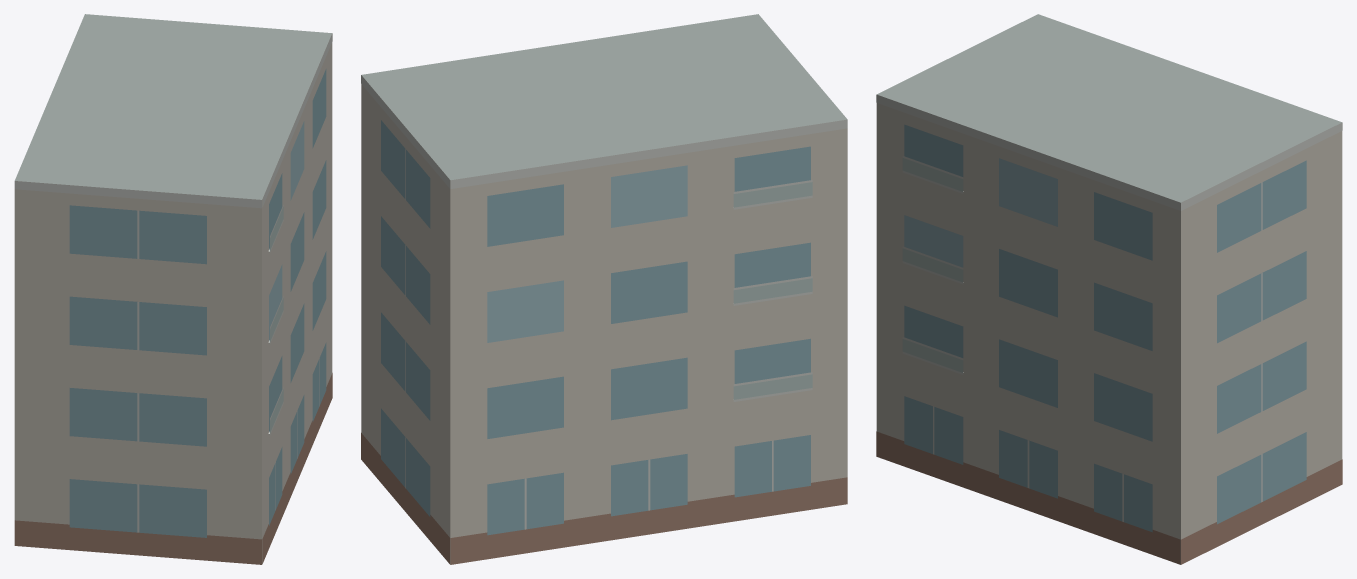
File: survey-upis-32710944.glb
3 renders of one model, left to right at view 1: azimuth 30°, elevation 25°; view 2: azimuth 150°, elevation 25°; view 3: azimuth 270°, elevation 25°, orthographic. The views are drawn at different scales.
Visible parts, largest first — view 1: survey-upis-32710944.tmp; view 2: survey-upis-32710944.tmp; view 3: survey-upis-32710944.tmp.
Part boxes in pixels (<box>): survey-upis-32710944.tmp: <box>14,14,332,564</box>; survey-upis-32710944.tmp: <box>361,14,847,564</box>; survey-upis-32710944.tmp: <box>876,14,1342,564</box>.
Bounding box in the file's own units: 11.85 × 10.6 × 12.37.
